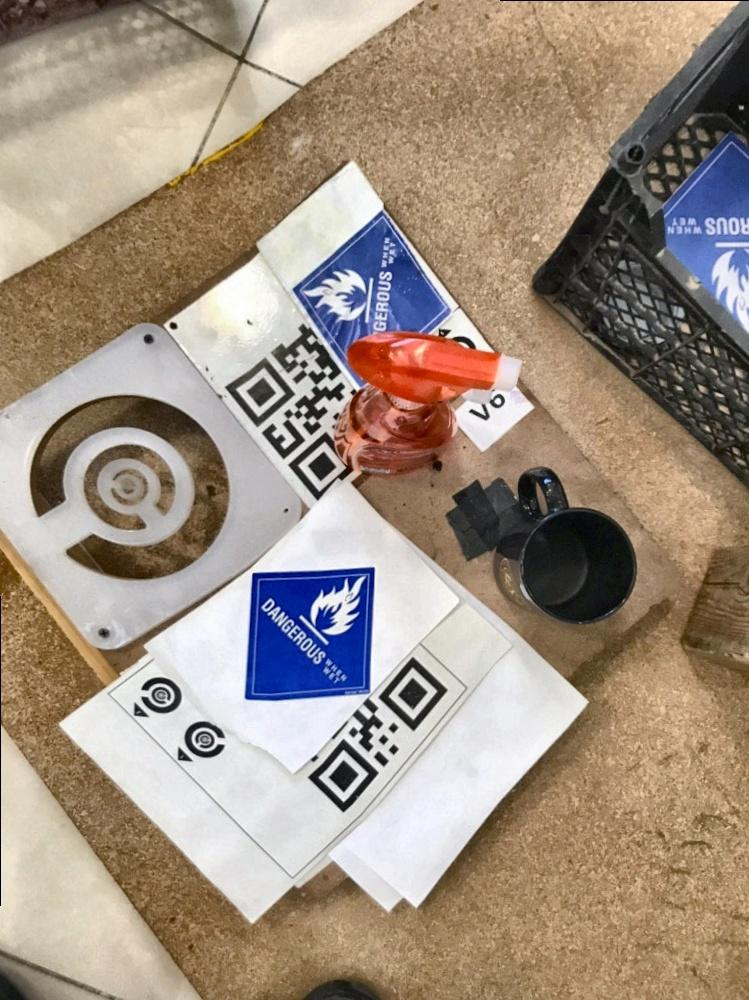dangerous-when-wet: (292, 204, 453, 376), (246, 562, 374, 703)
